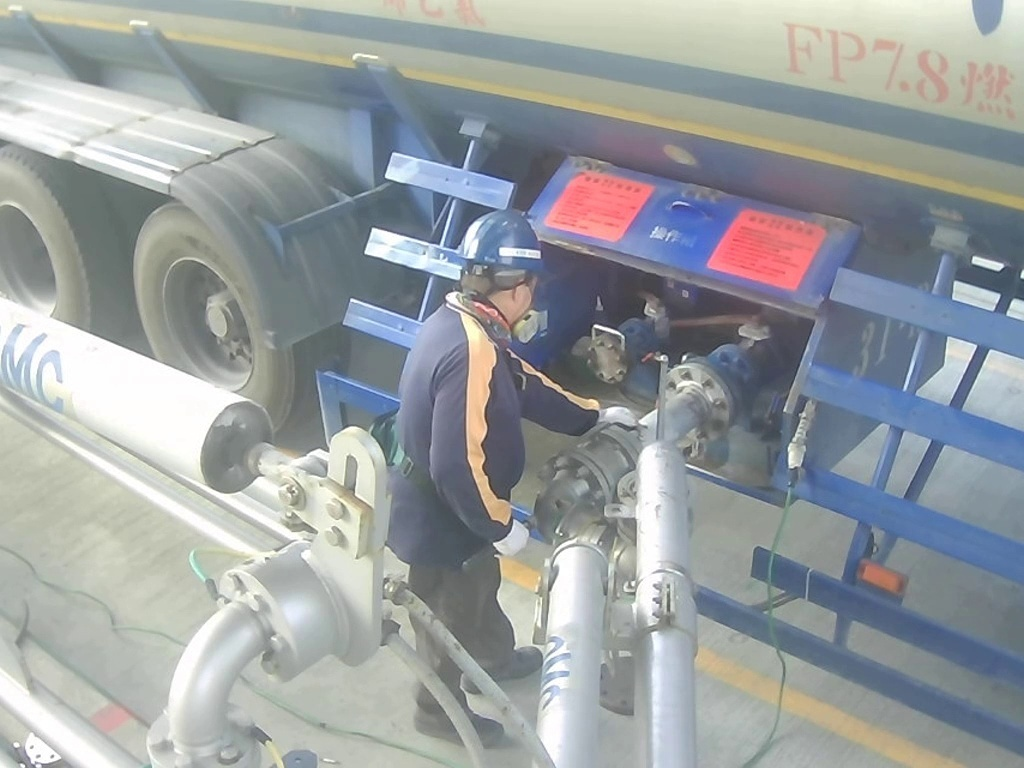helmet: (450, 205, 559, 349)
mask: (510, 303, 546, 345)
pack: (369, 407, 408, 470)
person: (369, 201, 591, 756)
